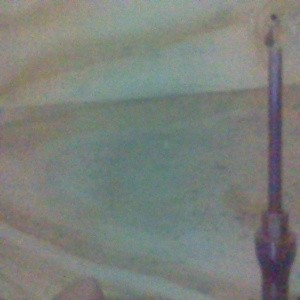obeng: (254, 47, 296, 300)
